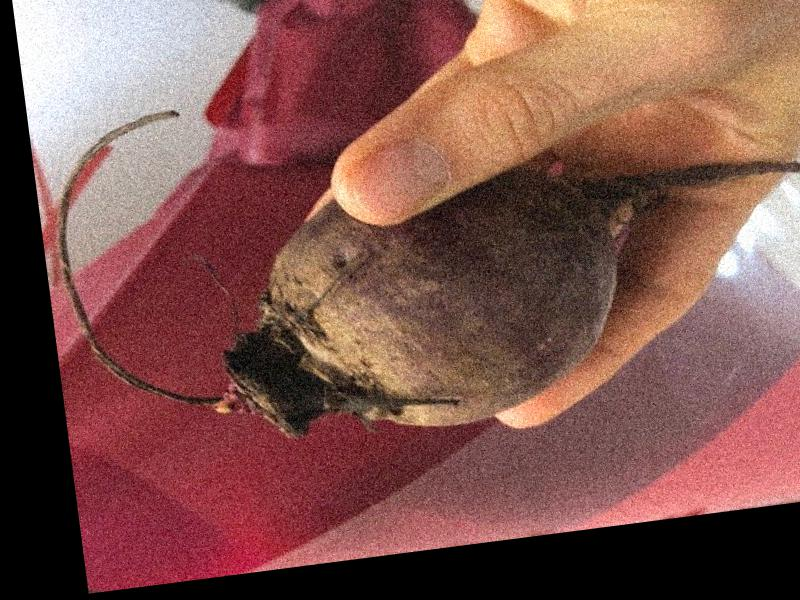Beet: (40, 27, 800, 472)
